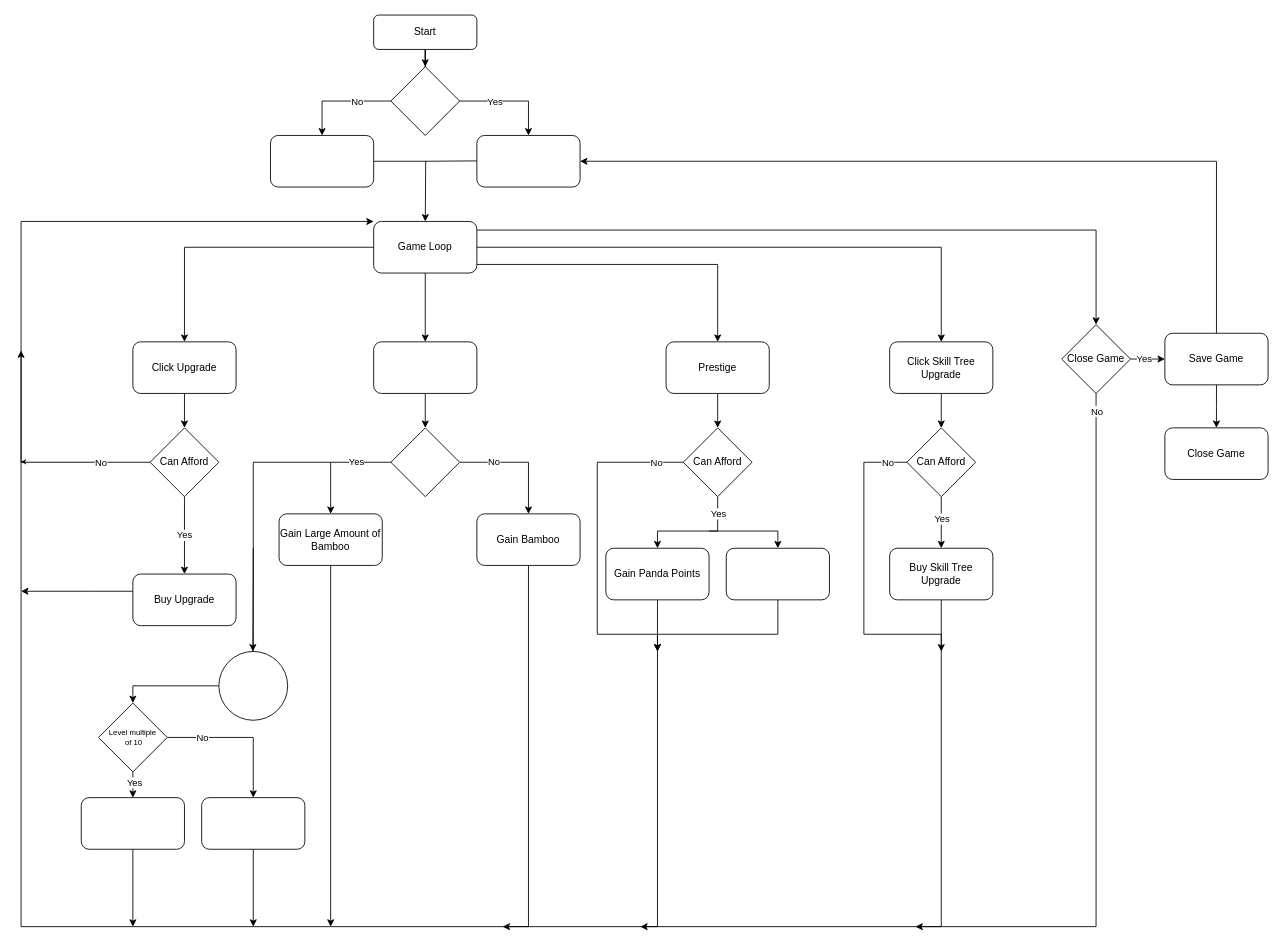
The diagram is 1283 pixels wide and 949 high, and some of its shapes have lost their labels. Here are the shapes that lost their labels. From the top down, the centre of each, then its label:
[425,100]: Save Game Exists
[322,161]: Create New Game
[528,161]: Load save Game
[425,367]: Punch Panda
[425,462]: Panda Knocked out
[777,573]: Reset Upgrades and Bamboo
[253,685]: Increase Level
[132,823]: Spawn Boss Panda
[253,823]: Spawn Stronger Panda
